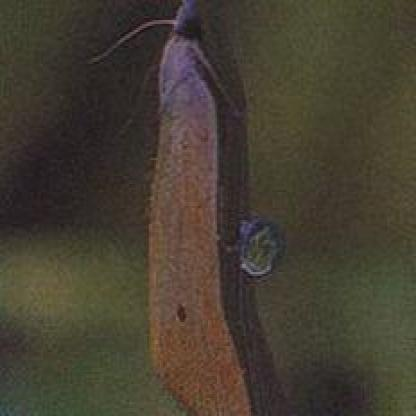stem-borer: (140, 0, 240, 416)
